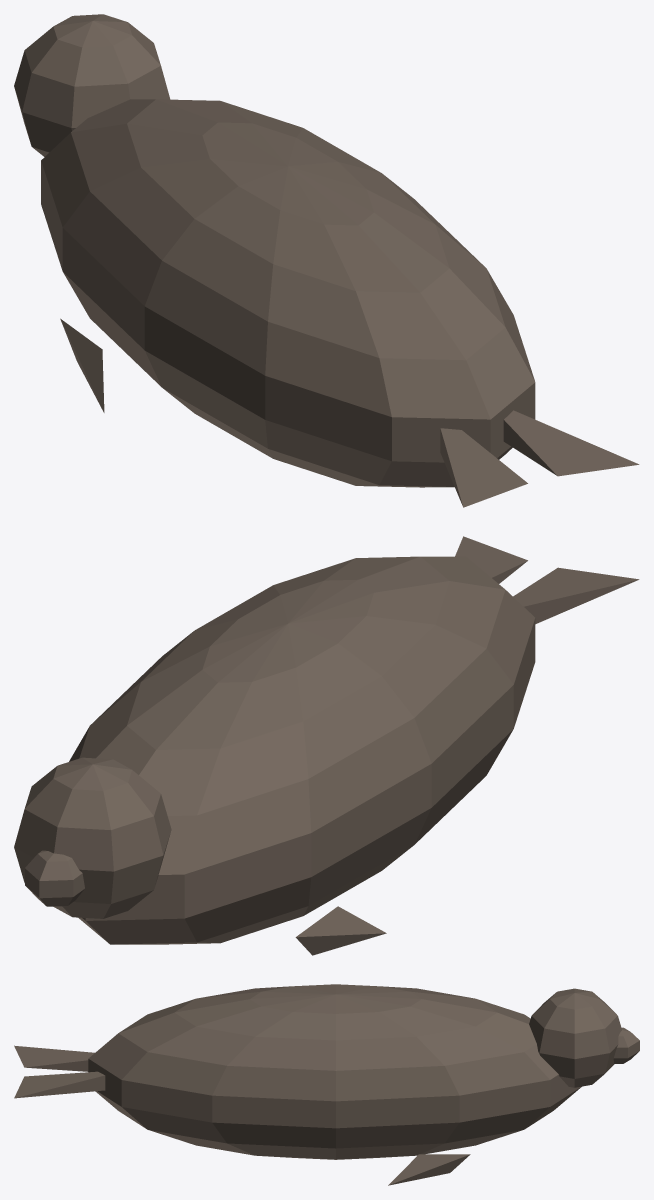
File: seal.glb
3 renders of one model, top to bottom at view 1: azimuth 30°, elevation 25°; view 2: azimuth 150°, elevation 25°; view 3: azimuth 270°, elevation 25°, orthographic. The views are drawn at different scales.
Parts seen in each view (by area): view 1: seal, head; view 2: seal, head; view 3: seal, head.
Boxes of the visible parts, x1=… form: seal: x1=41, y1=99, x2=639, y2=507; head: x1=14, y1=14, x2=170, y2=156; seal: x1=69, y1=536, x2=639, y2=955; head: x1=14, y1=757, x2=171, y2=918; seal: x1=14, y1=984, x2=581, y2=1185; head: x1=529, y1=988, x2=639, y2=1087.
Size of the model in its own units: 0.975 by 0.8325 by 3.01.
